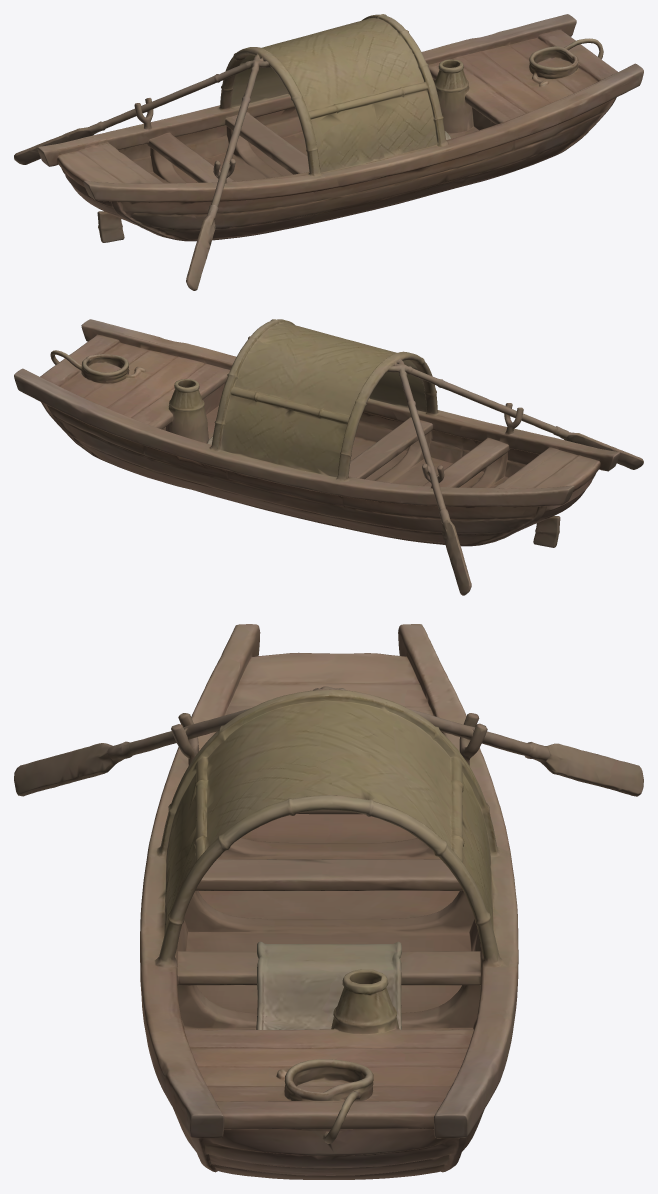
File: boat.glb
3 renders of one model, top to bottom at view 1: azimuth 30°, elevation 25°; view 2: azimuth 150°, elevation 25°; view 3: azimuth 270°, elevation 25°, orthographic. The views are drawn at different scales.
Visible parts, largest first — view 1: tripo_node_9cc114ea-9ebc-4912-835f-4b499abd13f0; view 2: tripo_node_9cc114ea-9ebc-4912-835f-4b499abd13f0; view 3: tripo_node_9cc114ea-9ebc-4912-835f-4b499abd13f0.
Boxes of the visible parts, <box> form: tripo_node_9cc114ea-9ebc-4912-835f-4b499abd13f0: <box>14,14,643,290</box>; tripo_node_9cc114ea-9ebc-4912-835f-4b499abd13f0: <box>14,319,643,595</box>; tripo_node_9cc114ea-9ebc-4912-835f-4b499abd13f0: <box>14,624,643,1179</box>.
Size of the model in its own units: 1 by 0.2709 by 0.5584.
1 material, 1 textured.
